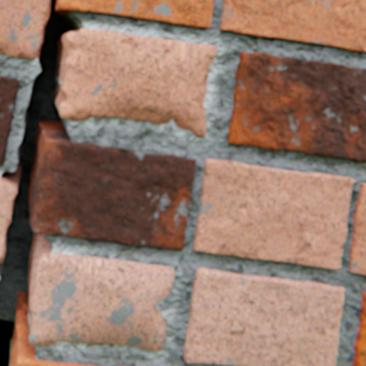brick: (29, 131, 194, 249), (193, 158, 353, 269), (183, 266, 343, 365), (227, 52, 365, 161), (219, 0, 365, 52), (56, 0, 212, 28), (11, 331, 105, 365), (347, 183, 365, 274), (0, 76, 18, 163), (352, 292, 365, 365)
broken_brick: (57, 29, 215, 137), (29, 237, 173, 349), (0, 0, 50, 58), (0, 177, 17, 261)
crack: (0, 0, 77, 365)
